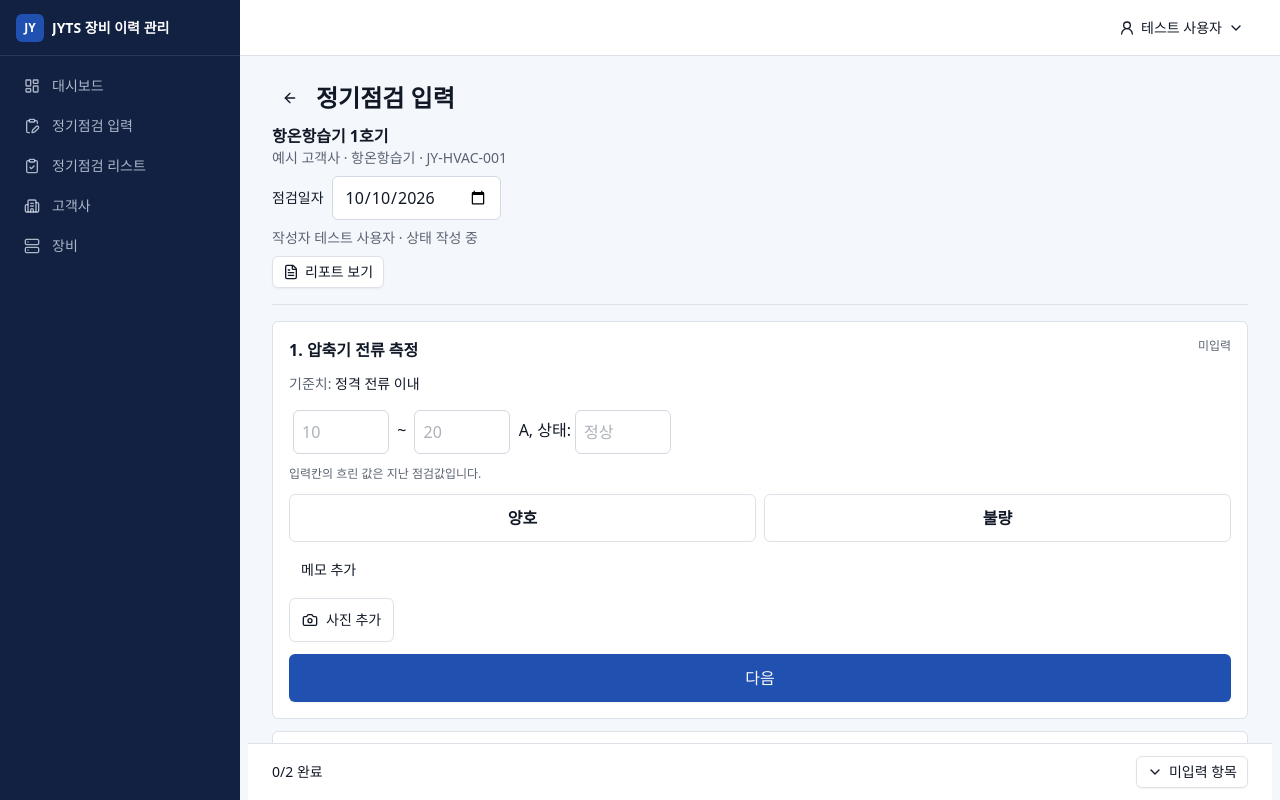
it: inspection input page › rejects non-numeric values in number fields before saving
Type "abc" into the field named "1번 압축기 전류 측정 입력 2" at (462,432), box x1=414 y1=410 x2=510 y2=454
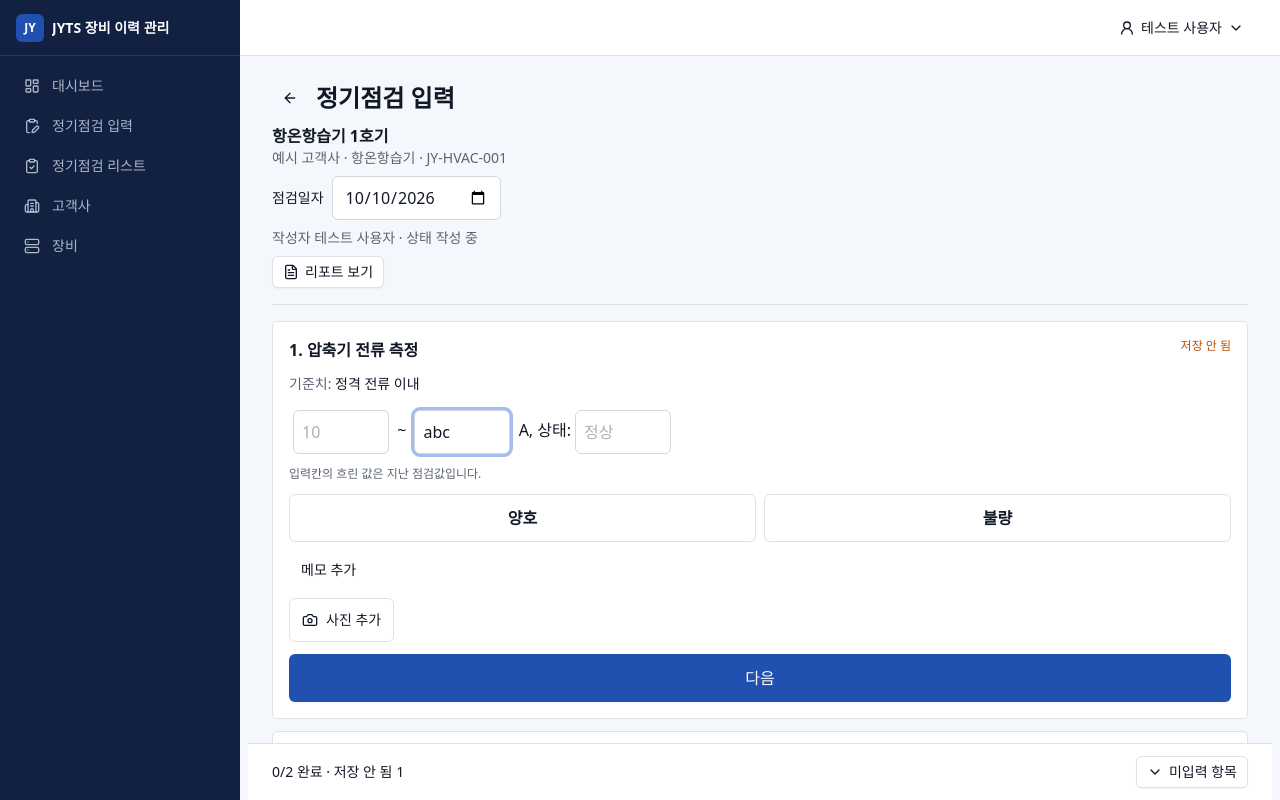
Click the button "다음" at (760,678), box x1=289 y1=654 x2=1231 y2=702
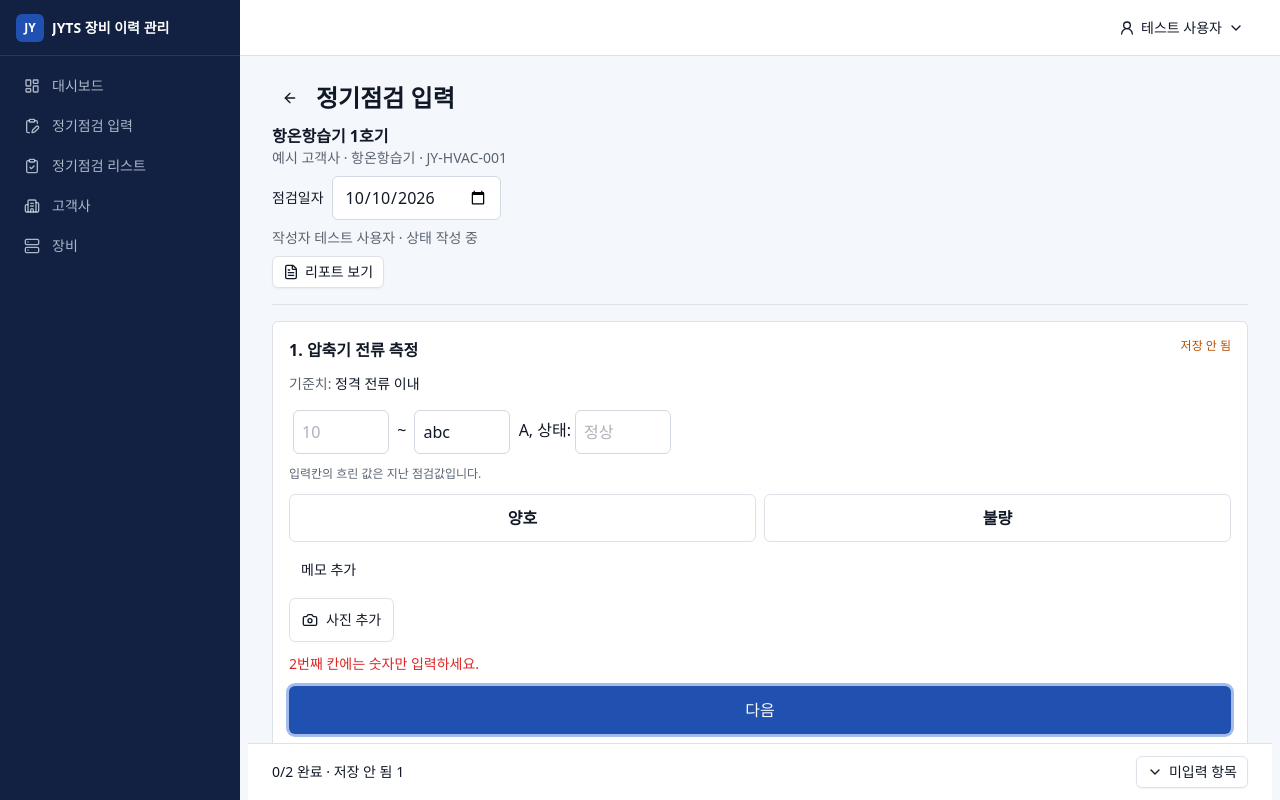
Now the text "2번째 칸에는 숫자만 입력하세요." is shown, box x1=289 y1=654 x2=479 y2=673
